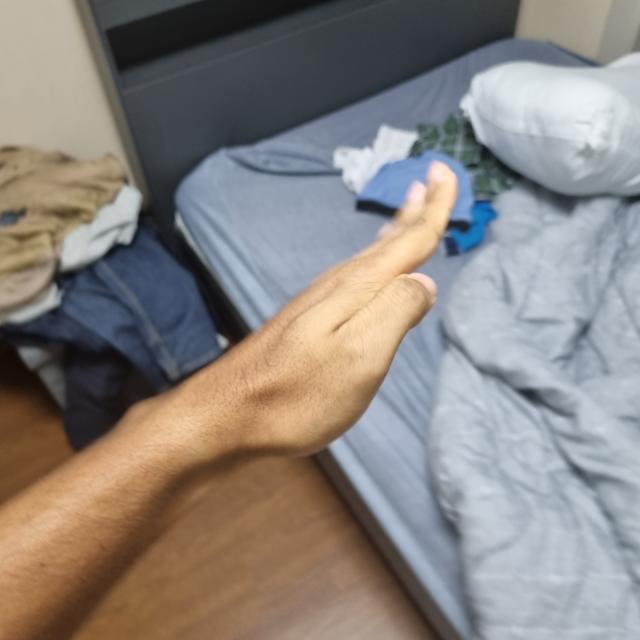Paper: (184, 169, 454, 458)
